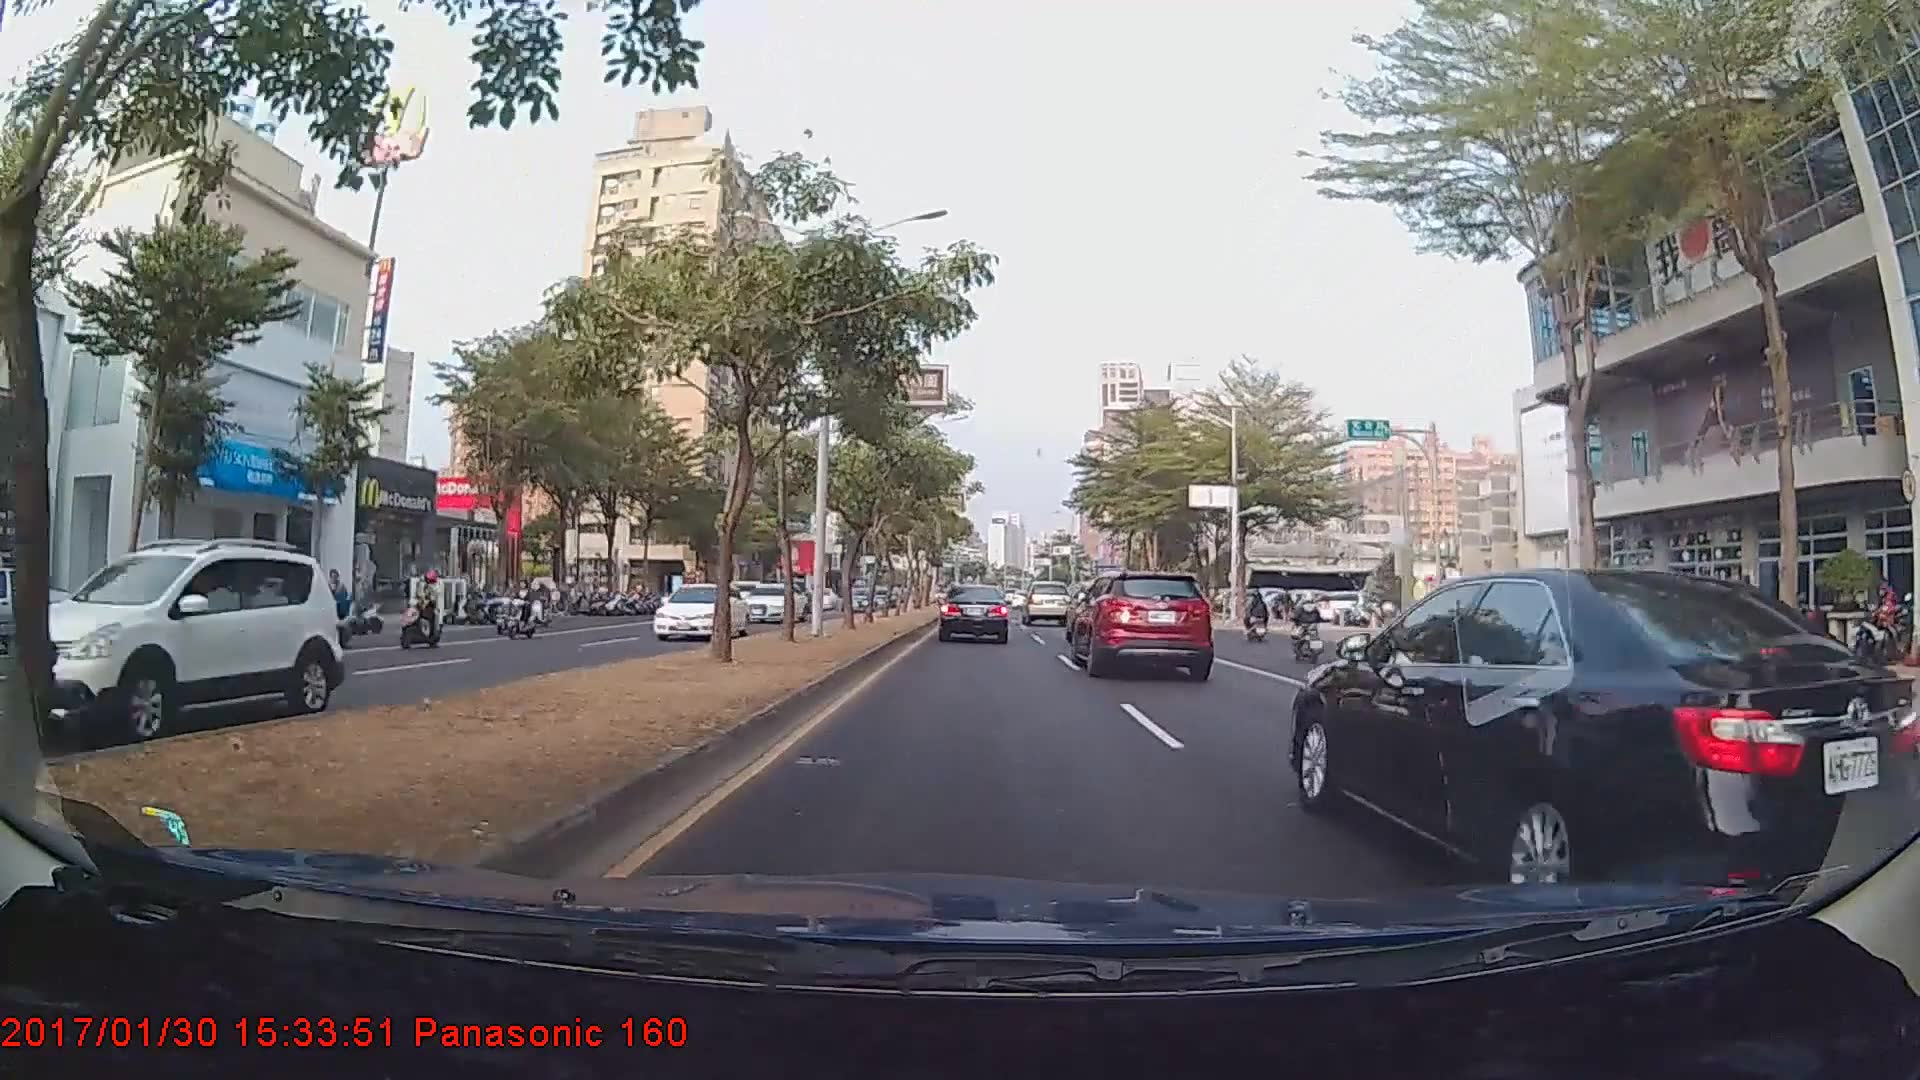rider: (389, 567, 450, 650), (1284, 586, 1328, 667)
vehicle: (1293, 558, 1861, 873), (0, 541, 345, 742), (1072, 570, 1213, 677), (649, 578, 751, 638), (938, 584, 1010, 643), (737, 575, 807, 624), (1022, 580, 1072, 626)
